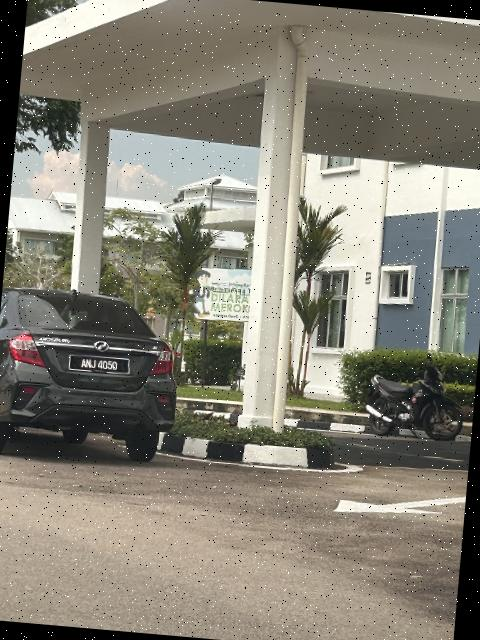License_Plate: (67, 353, 133, 381)
car: (1, 277, 199, 480)
